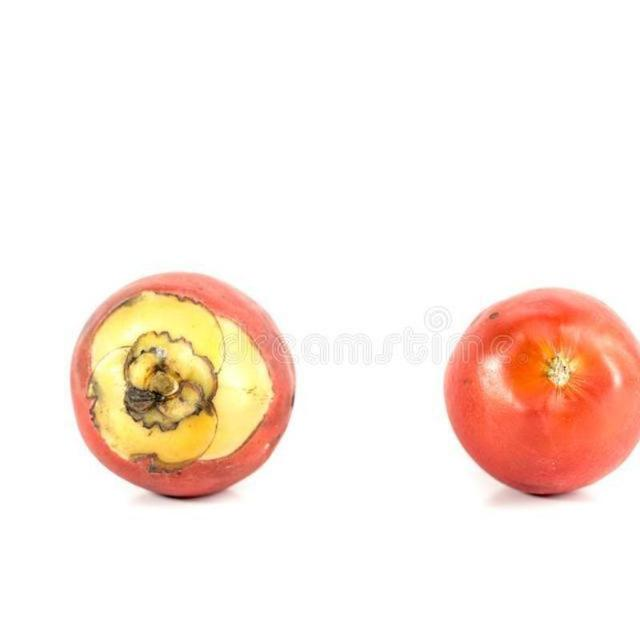good: (70, 277, 295, 501), (442, 287, 639, 498)
